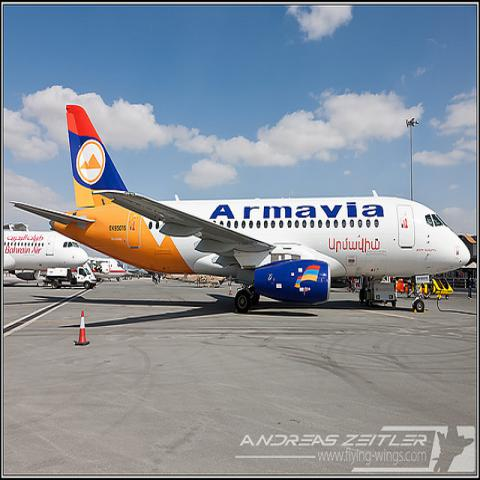truck: (38, 266, 95, 286)
